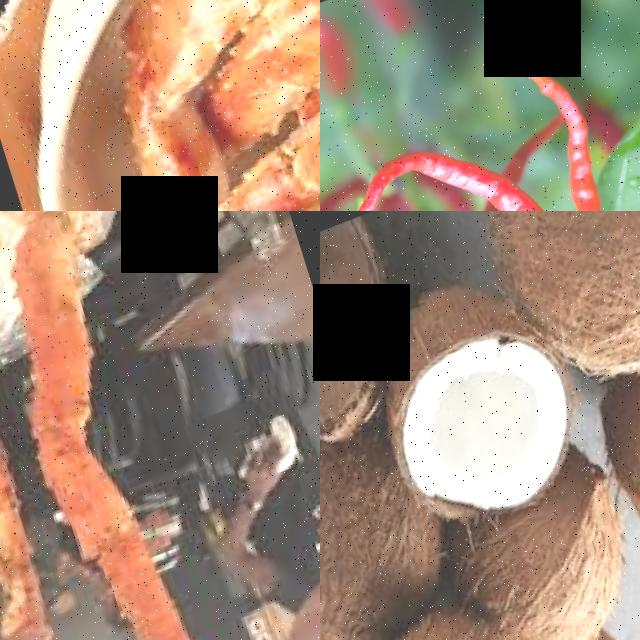coconut: (351, 257, 589, 548), (463, 450, 640, 640), (478, 211, 640, 410), (320, 406, 451, 640), (587, 335, 640, 590), (347, 595, 554, 640)
crab: (0, 211, 205, 640), (55, 0, 320, 211), (0, 251, 54, 636)
